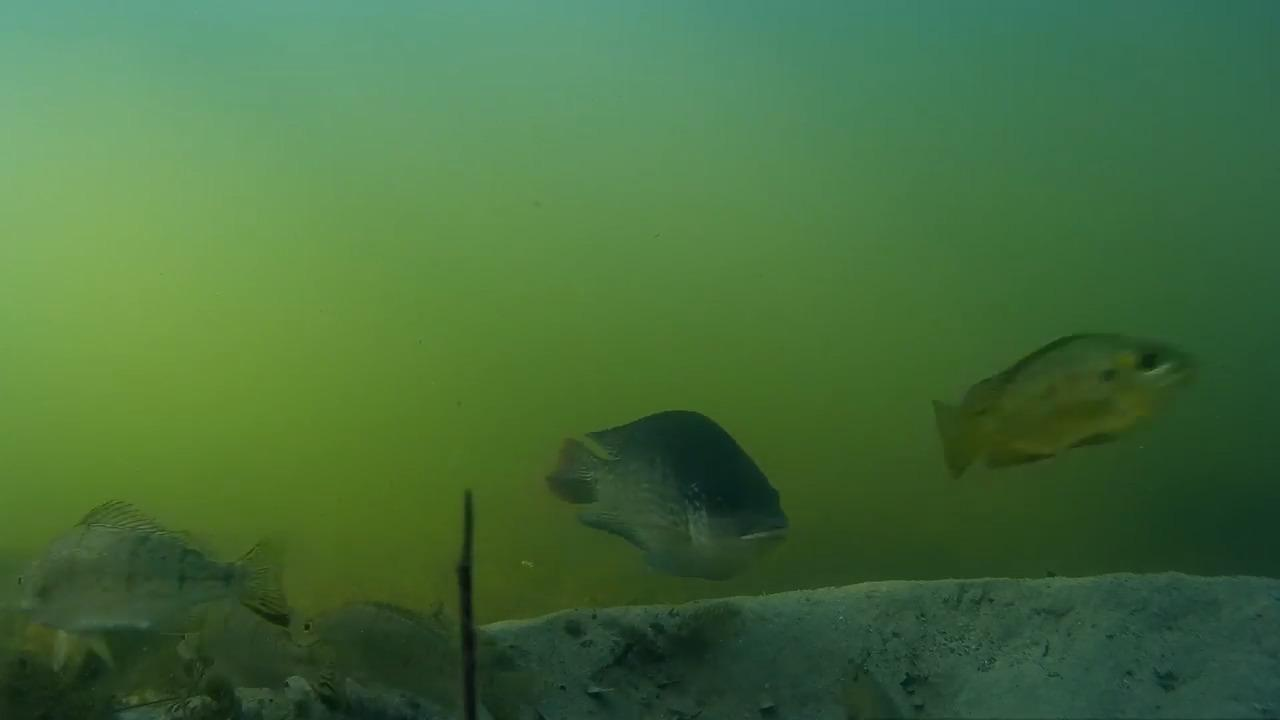Tilapia: (534, 407, 800, 575), (17, 497, 296, 656), (921, 327, 1204, 483)
